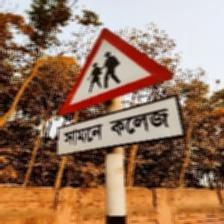College-in-front: (19, 26, 224, 164)
